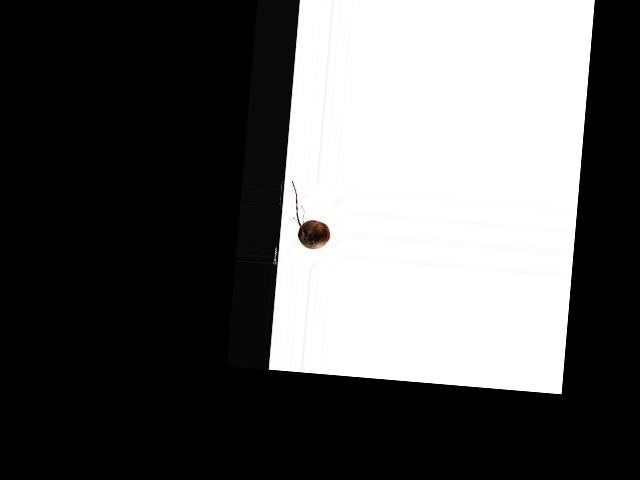beet: (286, 180, 333, 249)
